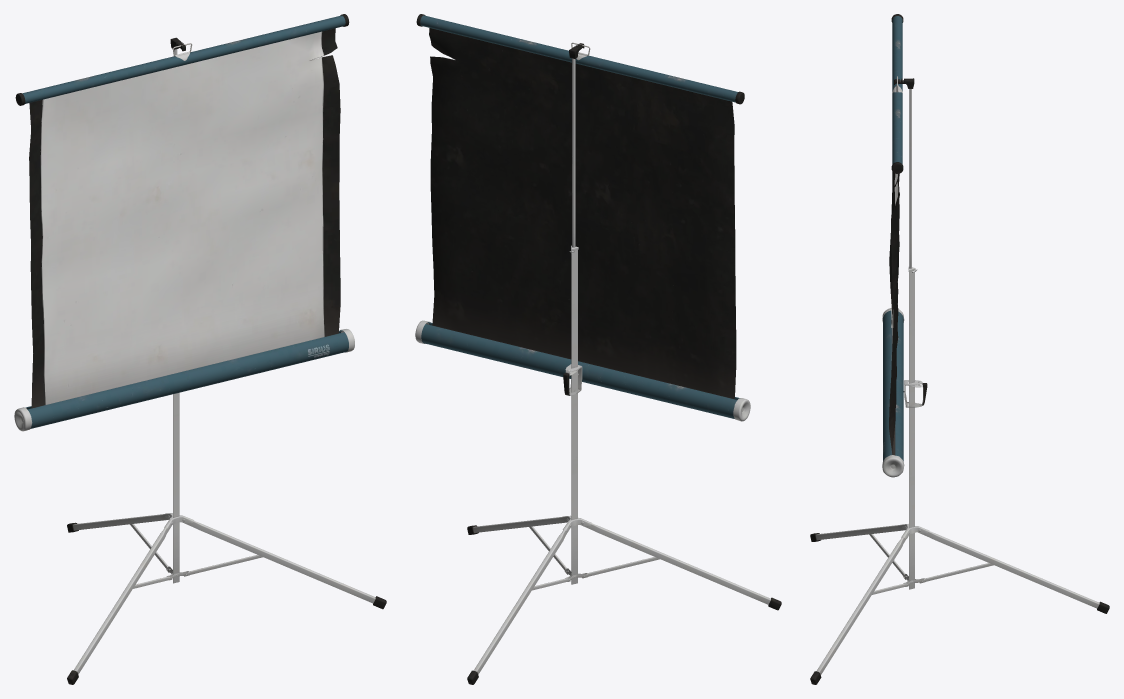
Rendered from projector_screen.glb.
3 renders of one model, left to right at view 1: azimuth 30°, elevation 25°; view 2: azimuth 150°, elevation 25°; view 3: azimuth 270°, elevation 25°, orthographic. The views are drawn at different scales.
Parts seen in each view (by area): view 1: projector_screen, projector_screen_frame; view 2: projector_screen, projector_screen_frame; view 3: projector_screen, projector_screen_frame.
Part boxes in pixels (x1,y1,x2,y2): projector_screen: (14, 14, 354, 431); projector_screen_frame: (67, 392, 386, 684); projector_screen: (415, 14, 750, 421); projector_screen_frame: (467, 245, 781, 684); projector_screen: (882, 14, 927, 477); projector_screen_frame: (810, 267, 1109, 684).
Size of the model in its own units: 1.09 by 1.8 by 0.9158.
2 materials, 2 textured.
